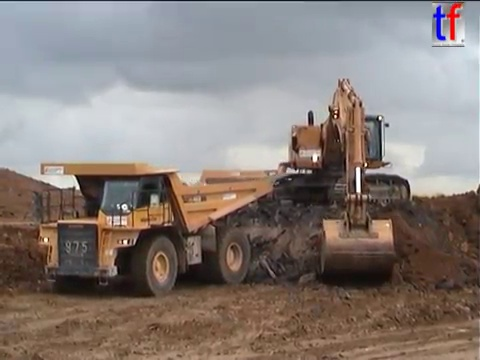excavator: (270, 75, 413, 283)
truck: (31, 160, 275, 298), (197, 159, 325, 200)
